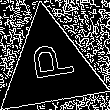P_W: (24, 45, 76, 90)
